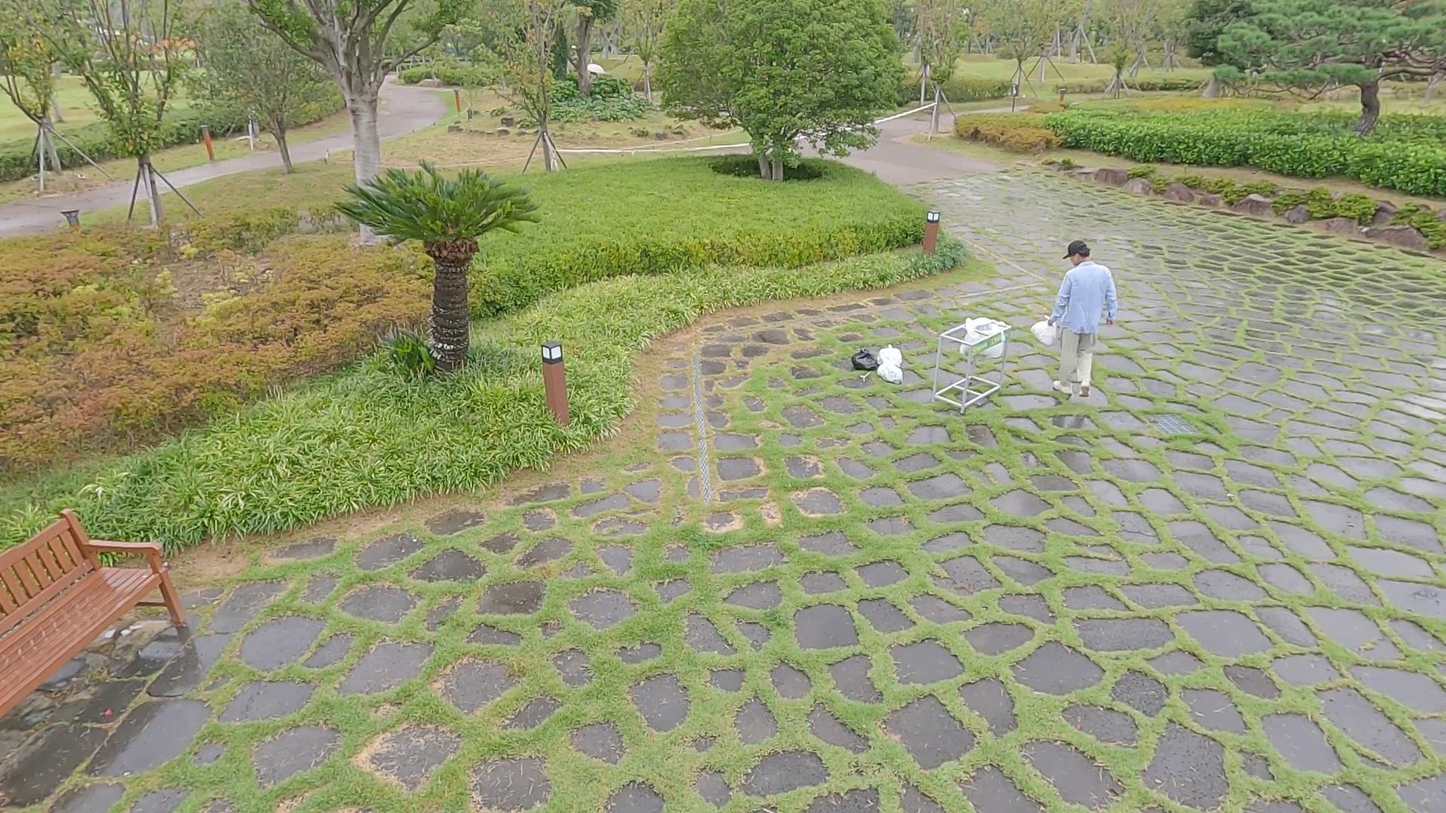person: (1043, 240, 1120, 400)
trash: (1030, 315, 1058, 345), (878, 356, 904, 385), (851, 347, 878, 371), (877, 343, 902, 366)
